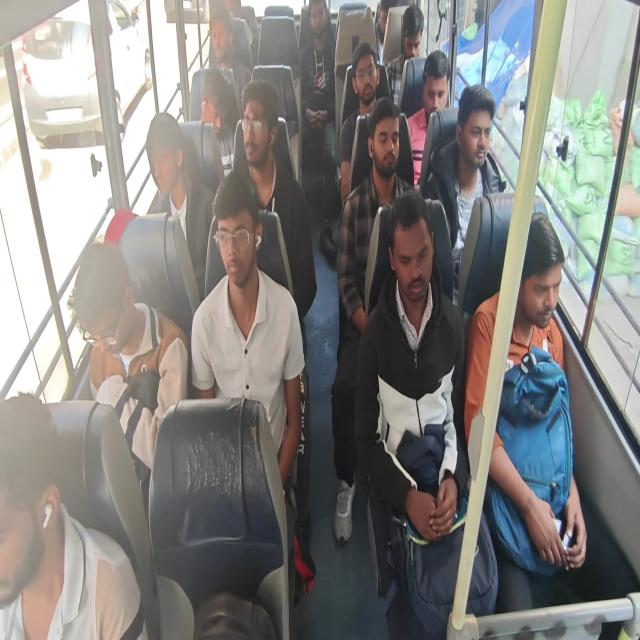person: (0, 403, 62, 578), (69, 251, 139, 356), (521, 239, 571, 336), (214, 192, 262, 292), (388, 214, 438, 304), (142, 115, 185, 191), (239, 89, 273, 167), (463, 98, 495, 169), (370, 115, 404, 175), (200, 74, 232, 132), (421, 61, 445, 120), (352, 50, 378, 100), (206, 14, 232, 63), (401, 18, 426, 60), (308, 4, 329, 44), (377, 4, 396, 44)
